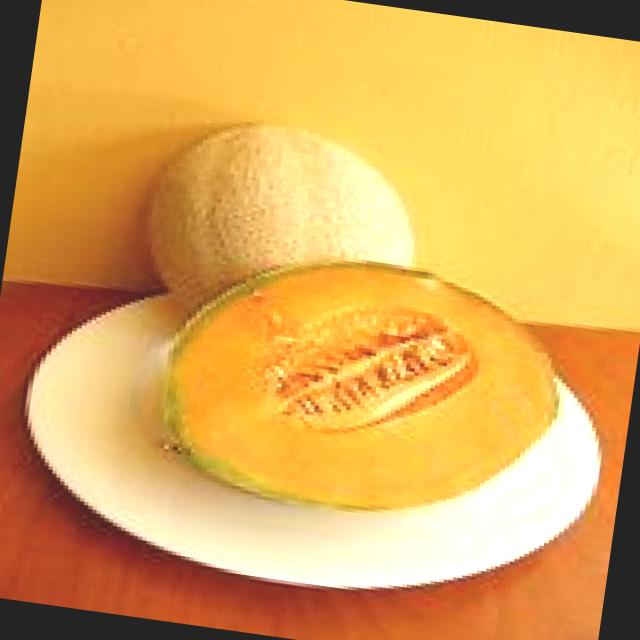cantaloupe: (146, 236, 572, 542), (136, 104, 437, 324)
